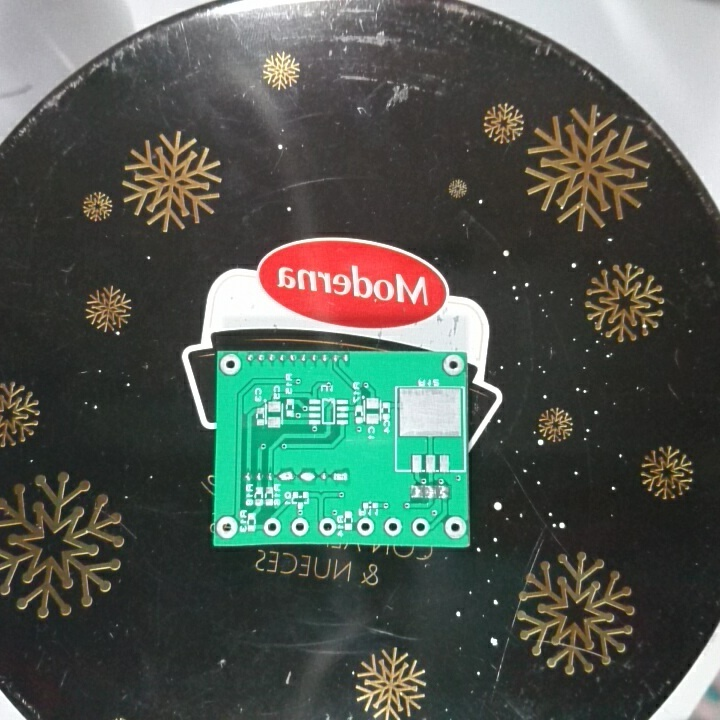F: (441, 352, 466, 379), (218, 352, 243, 379), (215, 513, 238, 542), (442, 515, 467, 540), (382, 515, 404, 540), (288, 516, 311, 538), (411, 515, 432, 539), (355, 516, 375, 539), (262, 515, 282, 537), (317, 516, 337, 538)
P: (331, 469, 349, 486), (298, 469, 317, 485), (276, 468, 295, 483)
